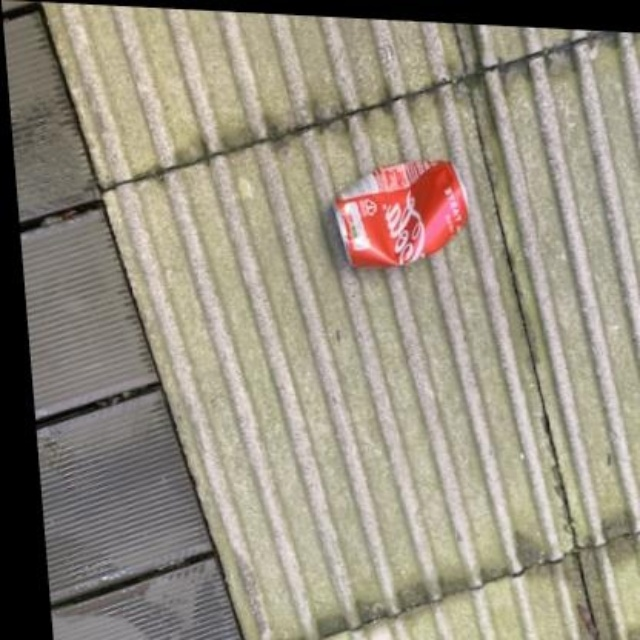trash: (334, 160, 466, 266)
